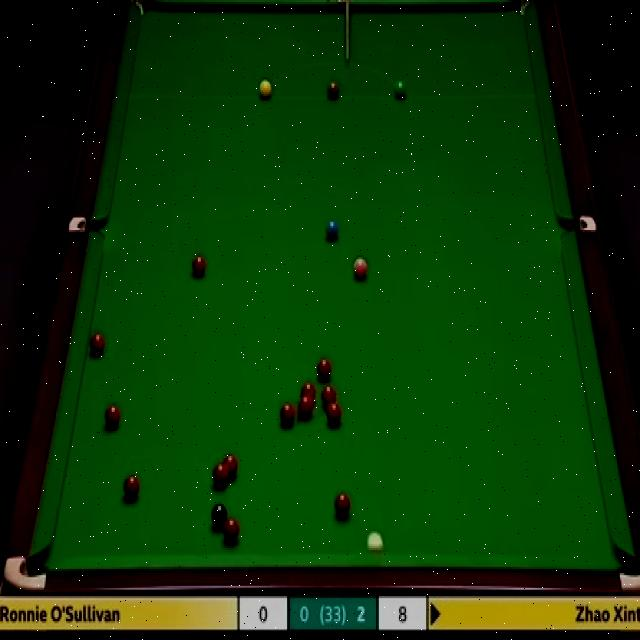black-ball: (210, 500, 229, 533)
blue-ball: (326, 218, 342, 243)
brown-ball: (326, 80, 341, 102)
green-ball: (392, 80, 406, 102)
pink-ball: (351, 253, 371, 282)
red-ball: (222, 519, 242, 547), (210, 463, 230, 489), (88, 330, 106, 358), (122, 474, 140, 501), (315, 356, 333, 382), (104, 402, 120, 431), (278, 403, 295, 428), (296, 396, 313, 421), (191, 254, 208, 278), (334, 493, 350, 518), (299, 382, 317, 404), (223, 453, 240, 476), (326, 402, 342, 426), (324, 387, 339, 406)
white-ball: (367, 530, 383, 552)
yellow-ball: (258, 79, 272, 101)
